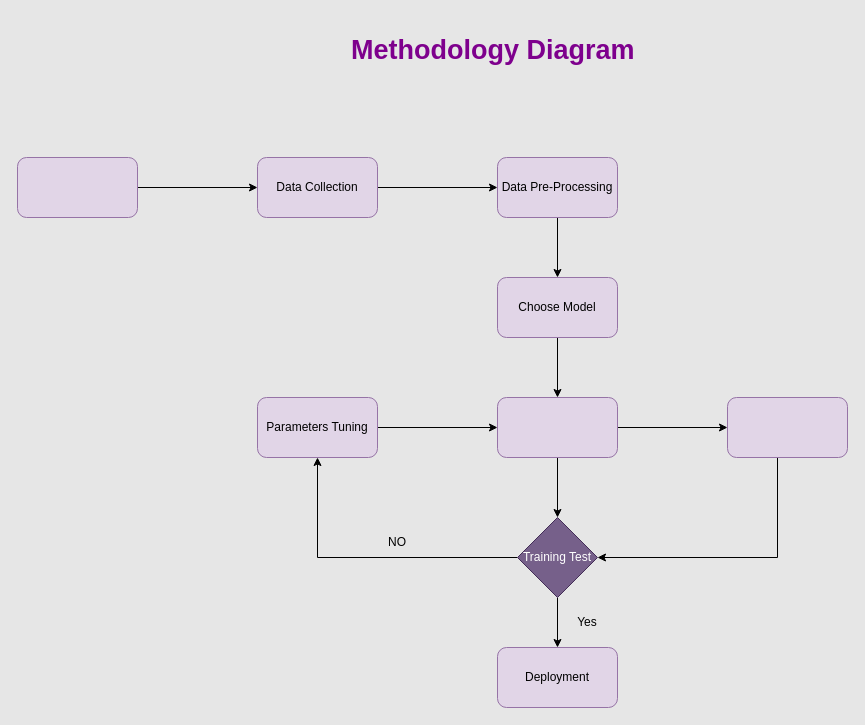
Some shapes in this 865 by 725 pixel diagram are drawn without their labels. Each missing label, with the box of its shape:
Cross Validation: (726, 396, 848, 458)
Problem Statement: (16, 156, 138, 218)
Training Model: (496, 396, 618, 458)
